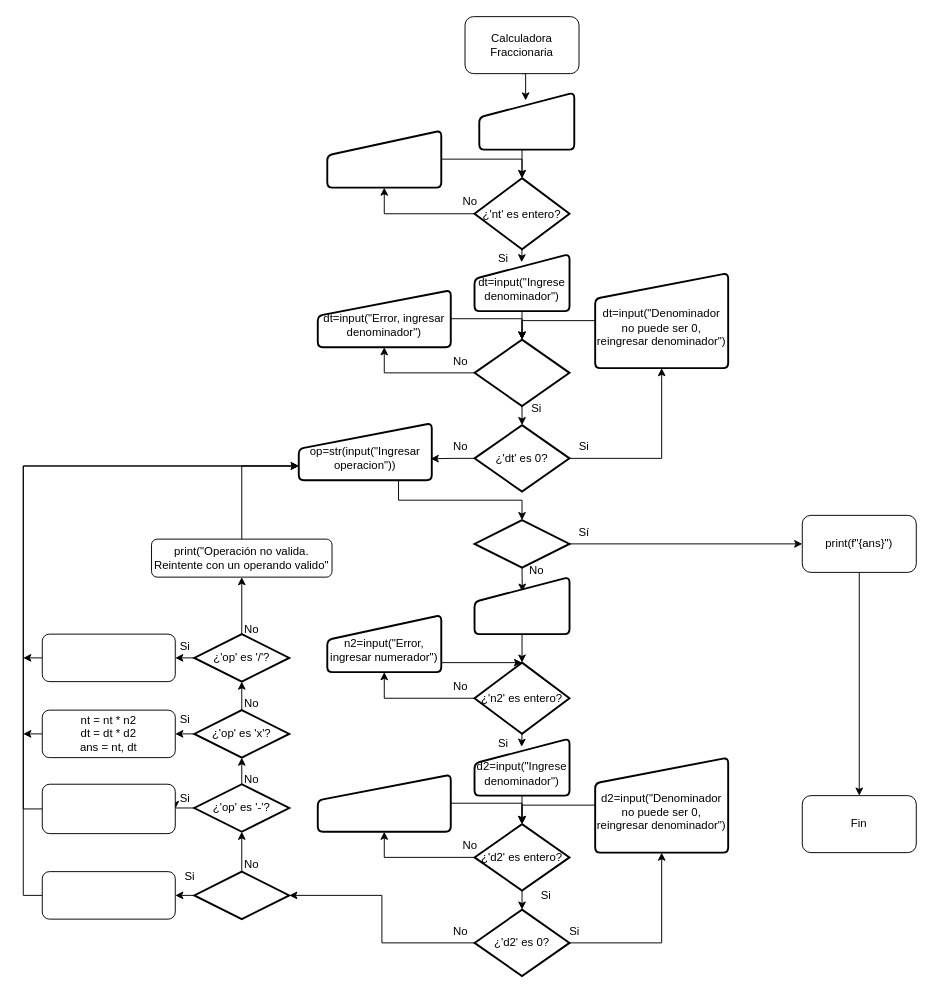
The diagram is 933 pixels wide and 994 high, and some of its shapes have lost their labels. Each missing label, with the centre of its shape:
d2=input("Error, ingresar denominador"): pixel 383 802
n2=input("Ingrese numerador"): pixel 521 605
nt = (nt * d2) + (n2 * dt) dt = dt * d2 ans = nt, dt: pixel 108 895
nt = (nt * d2) - (n2 * dt) dt = dt * d2 ans = nt, dt: pixel 108 808
nt = nt * d2 dt = n2*dt ans = nt, dt: pixel 108 657
nt=input("Error, ingresar numerador"): pixel 384 158
nt=input("Ingrese numerador"): pixel 526 120
¿'dt' es entero?: pixel 521 372
¿'op' es '+'?: pixel 241 895
¿'op' es '='?: pixel 521 543
